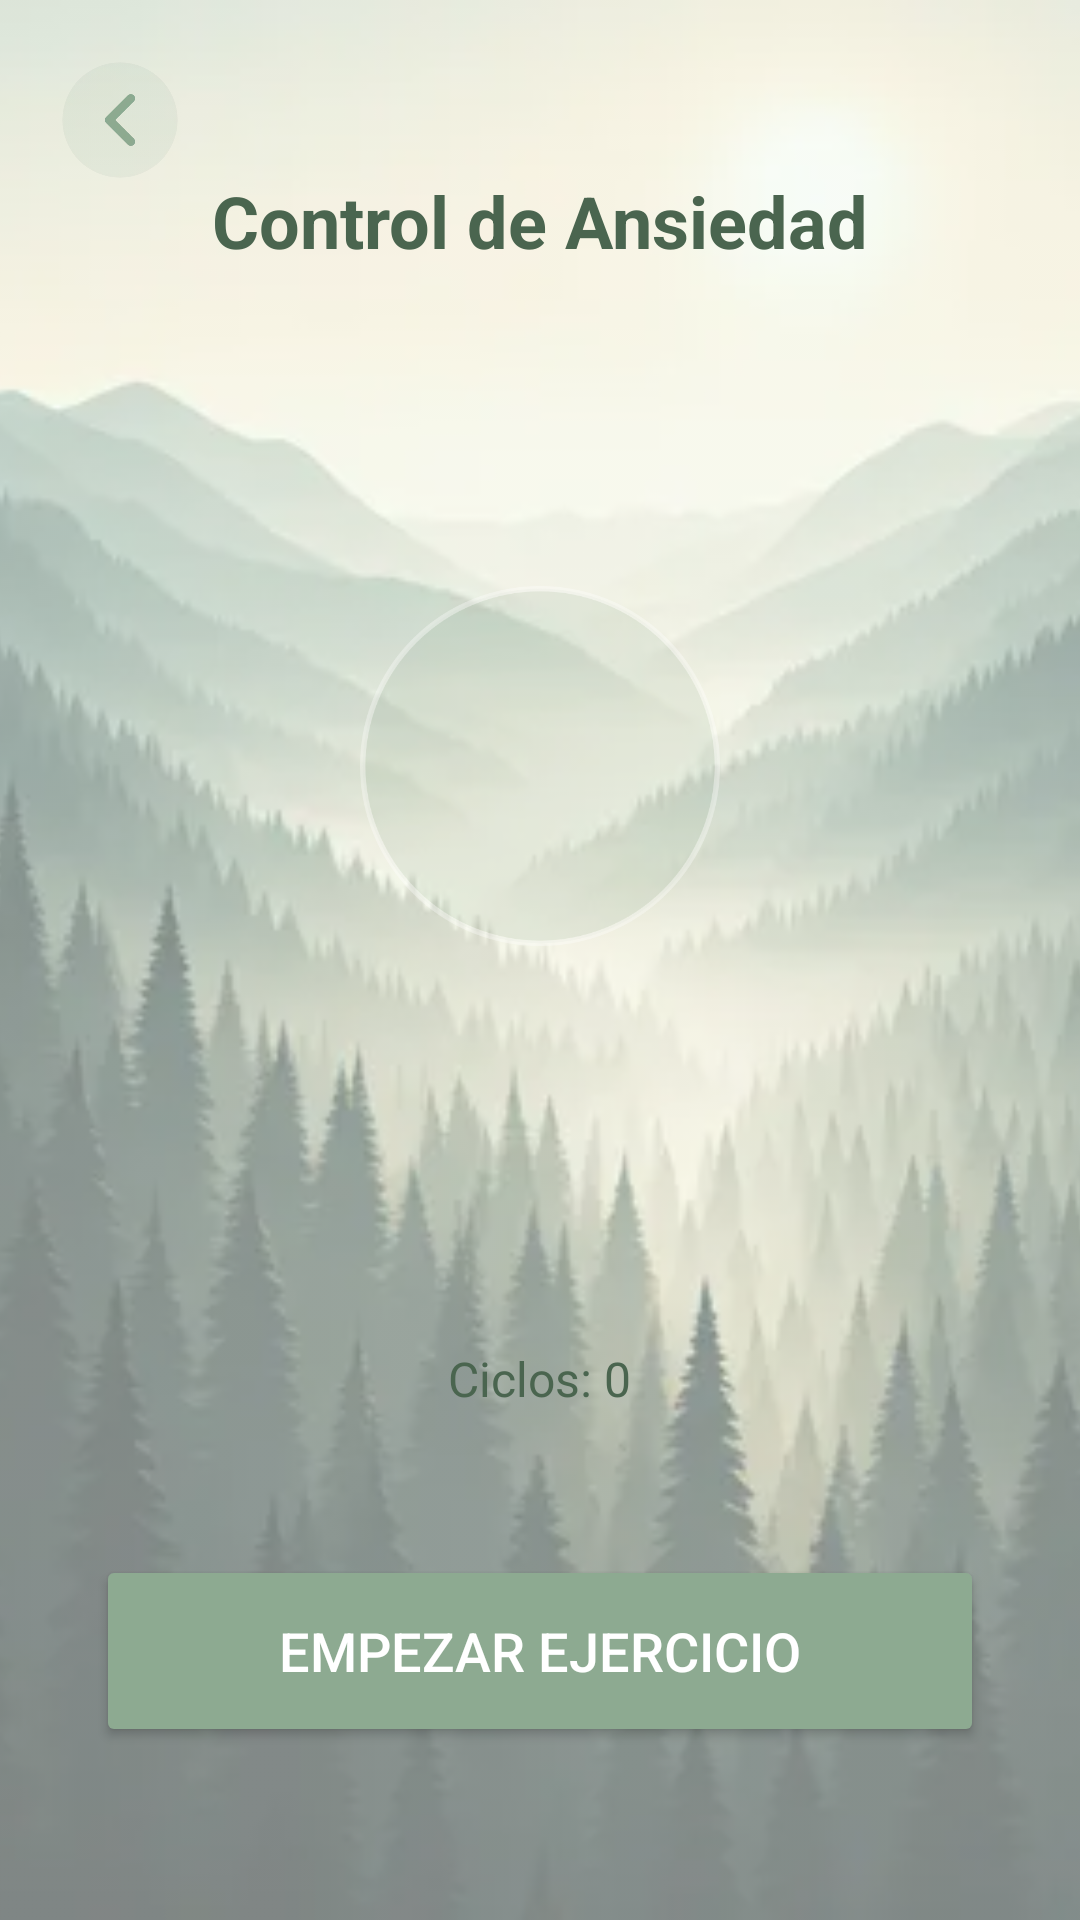

Locate icon controls on the screen. Image size 1080px x 1920px, boxes as (x1, y1, x2, y2).
Volver: (105, 94, 135, 146)
